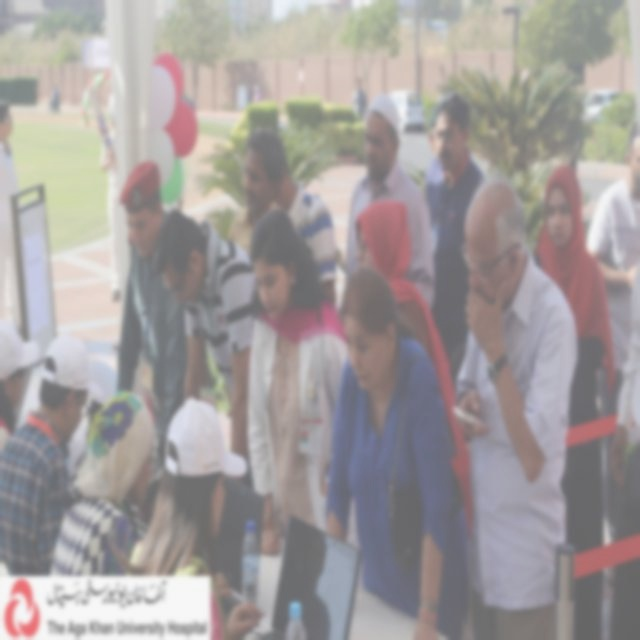pessoa: (318, 251, 474, 639), (454, 173, 578, 639), (530, 159, 620, 639), (354, 196, 474, 542), (106, 394, 266, 639), (245, 206, 350, 556), (150, 207, 269, 485), (0, 327, 105, 577), (586, 119, 640, 588), (343, 91, 437, 320), (49, 390, 161, 578), (112, 157, 188, 433), (422, 90, 487, 396), (606, 241, 640, 632), (273, 134, 339, 308), (226, 125, 298, 268), (272, 524, 332, 638), (0, 96, 23, 337), (0, 316, 40, 448), (99, 91, 122, 305), (396, 90, 441, 198), (351, 74, 369, 120), (49, 81, 62, 118), (252, 84, 262, 104)
